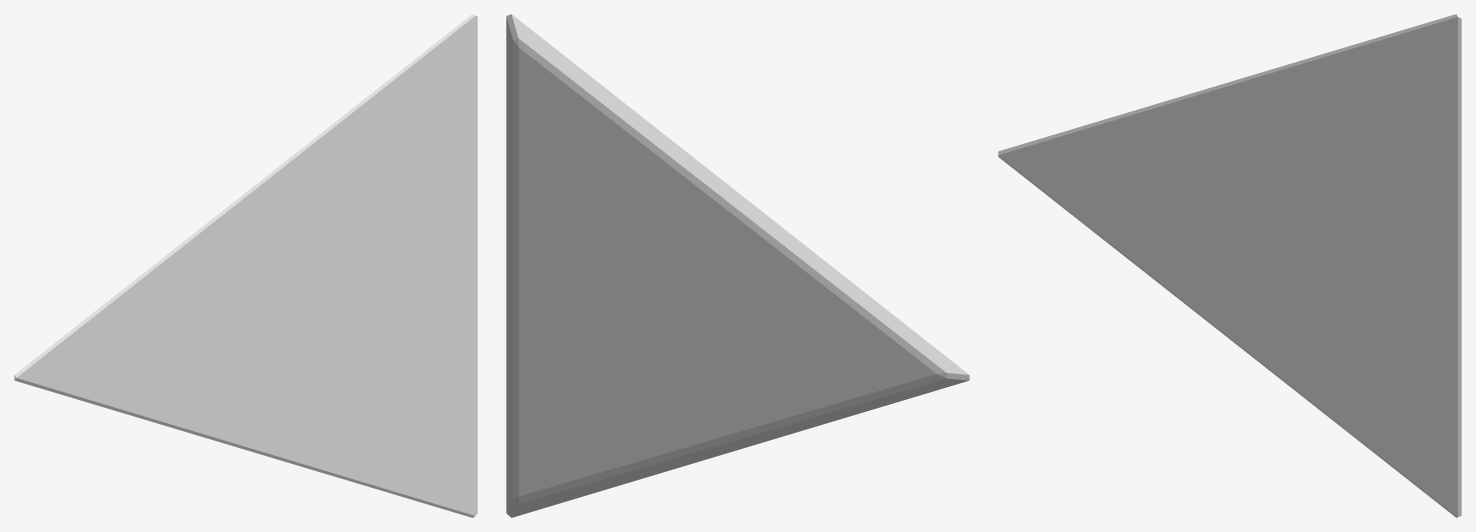
Rendered from Play_Icon_01.fbx.
The picture shows the model from 3 angles, left to right: view 1: azimuth 30°, elevation 25°; view 2: azimuth 150°, elevation 25°; view 3: azimuth 330°, elevation 25°; orthographic projection.
Parts seen in each view (by area): view 1: Pause_3D_Icon_01; view 2: Pause_3D_Icon_01; view 3: Pause_3D_Icon_01.
Part boxes in pixels (x1=…): Pause_3D_Icon_01: x1=14, y1=14, x2=477, y2=517; Pause_3D_Icon_01: x1=506, y1=14, x2=969, y2=517; Pause_3D_Icon_01: x1=998, y1=14, x2=1461, y2=517.
Bounding box in the file's own units: 87.07 × 90.53 × 1.63.
